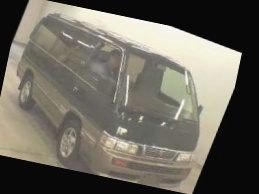van: (0, 0, 240, 194)
